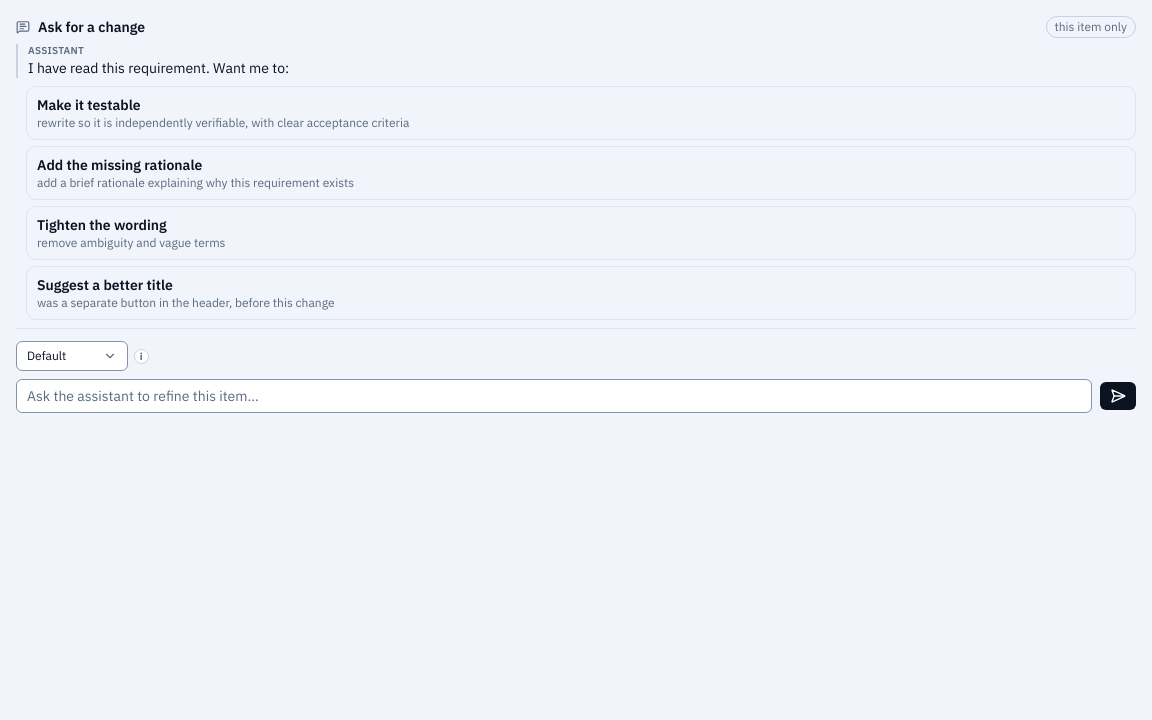
Scenario: ChatPanel › shows a specific "job is closed" message on a 409, not the generic send-failure toast
In the field with placeholder "Ask the assistant to refine this item…": (554, 396) [16,379,1092,413], type "hi"
Then press Enter
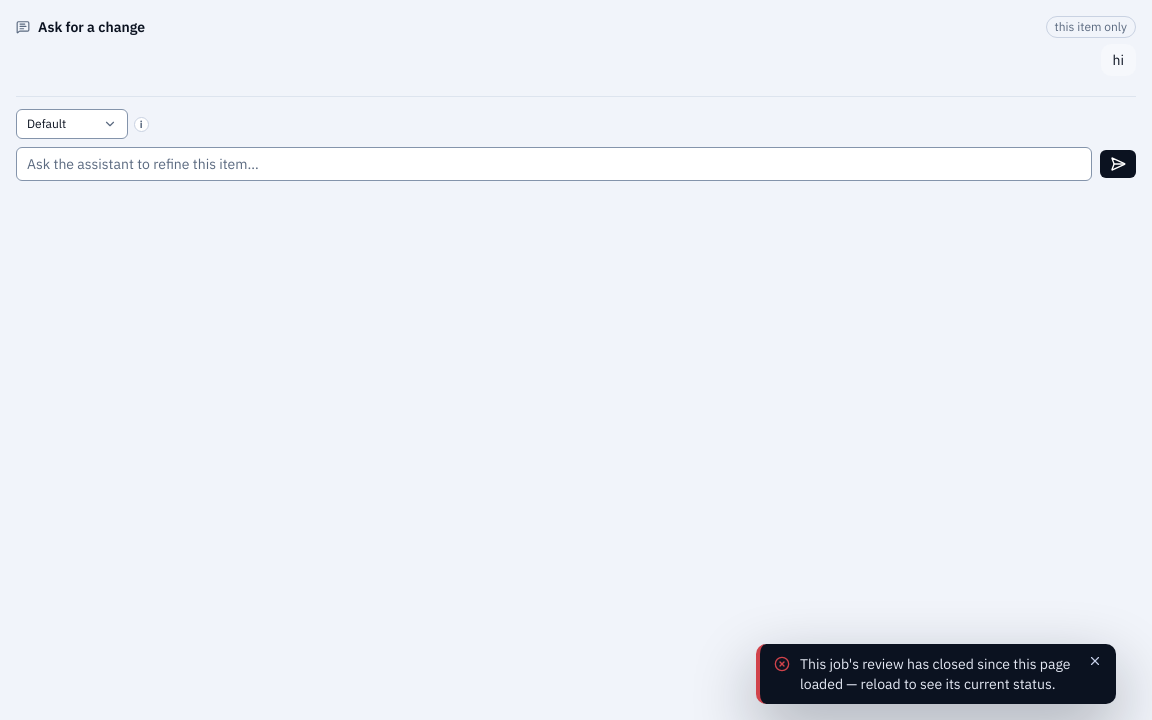
Now the text "review has closed since this page loaded" is shown, box [800,655,1070,693]
